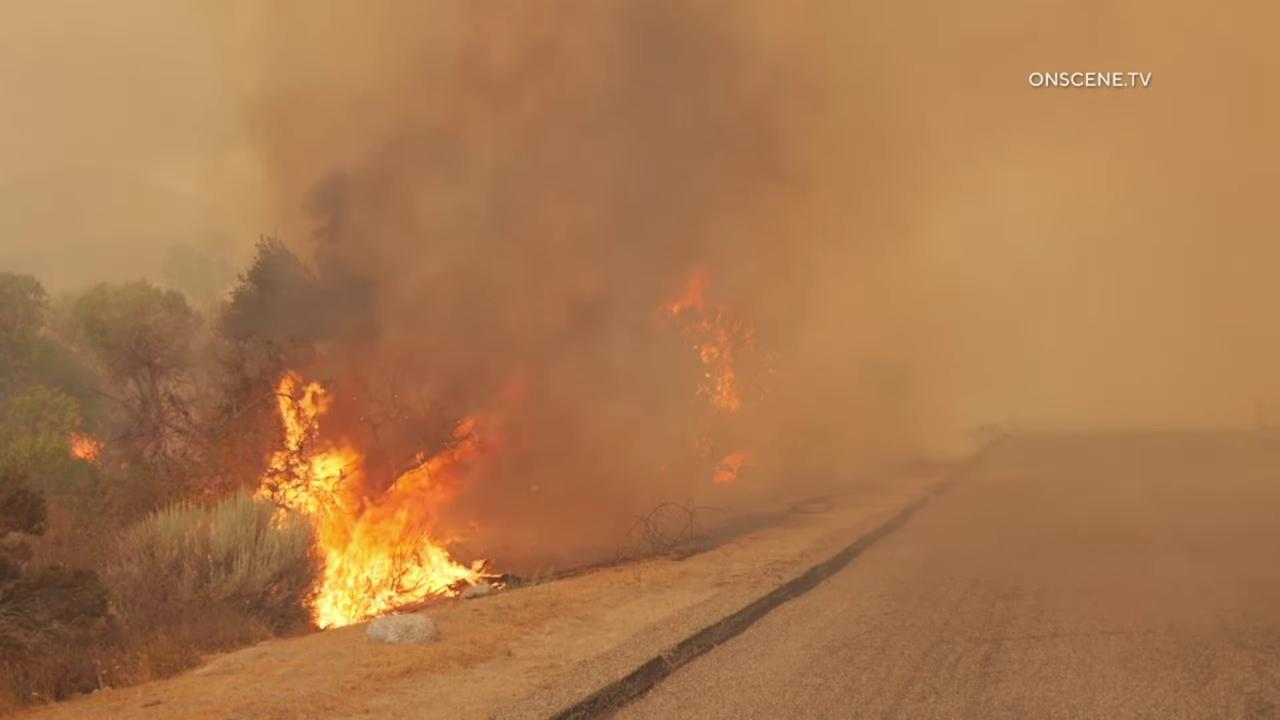fire: (244, 363, 542, 632), (655, 259, 760, 412), (705, 444, 753, 486), (64, 429, 106, 468)
smoke: (0, 0, 1280, 635)
